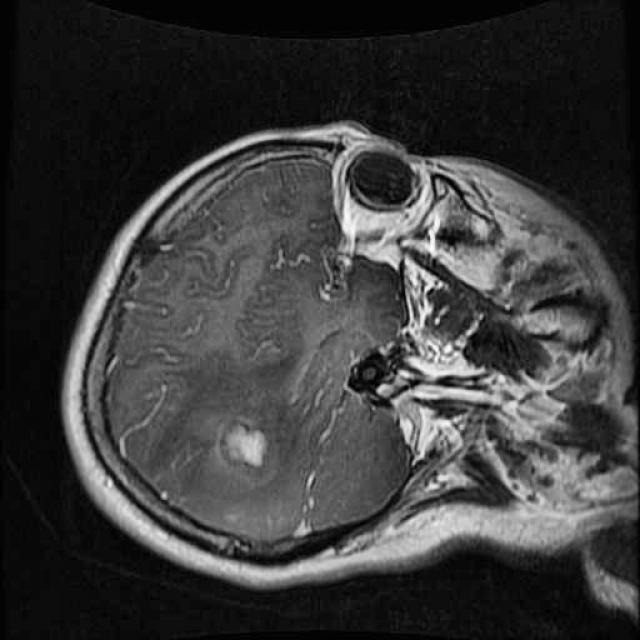Non-Tumor: (209, 414, 283, 485)
